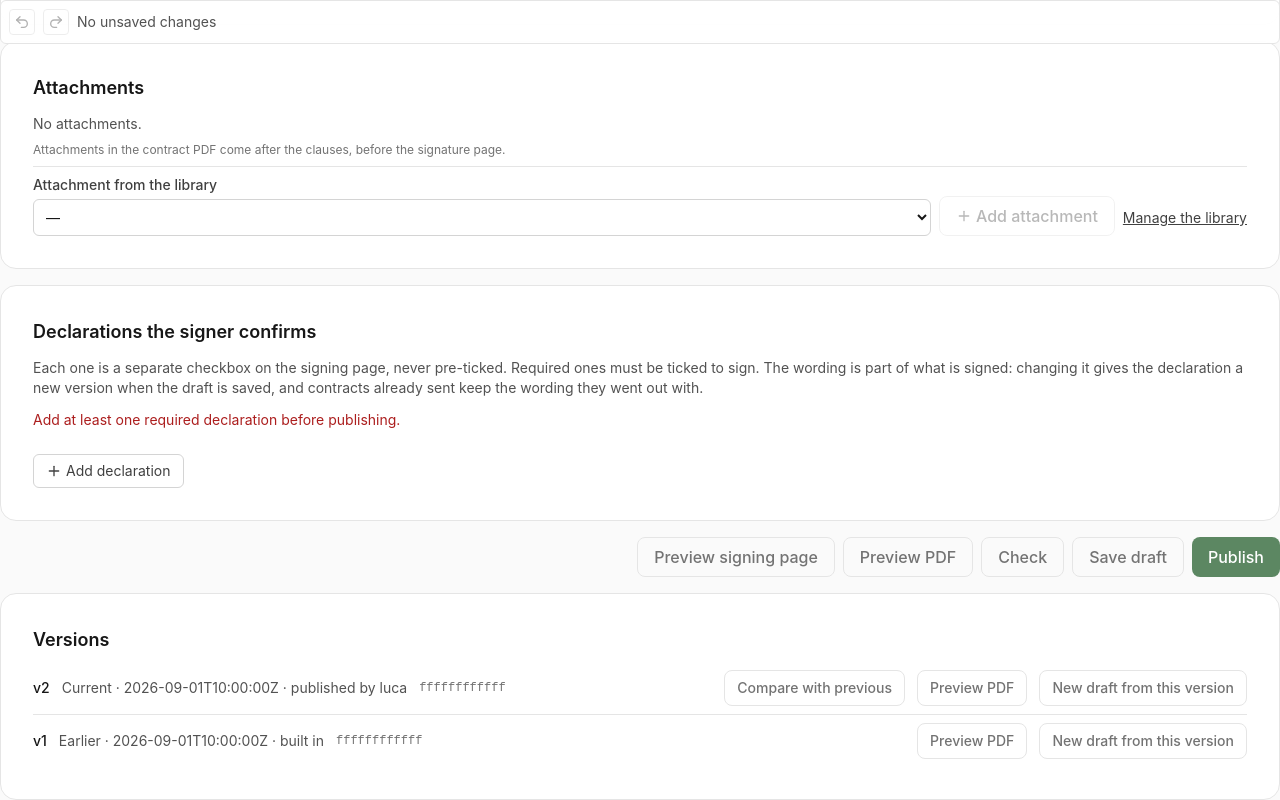
Scenario: the version history names the publisher and compares a version with the one before
(page scrolled)
Expected: the text "Current · 2026-09-01T10:00:00Z · published by luca" is shown, [62,678,407,698]
Expected: the text "Earlier · 2026-09-01T10:00:00Z · built in" is shown, [59,731,324,751]
Click the button "Compare with previous" at (815, 688), box [724,670,905,706]
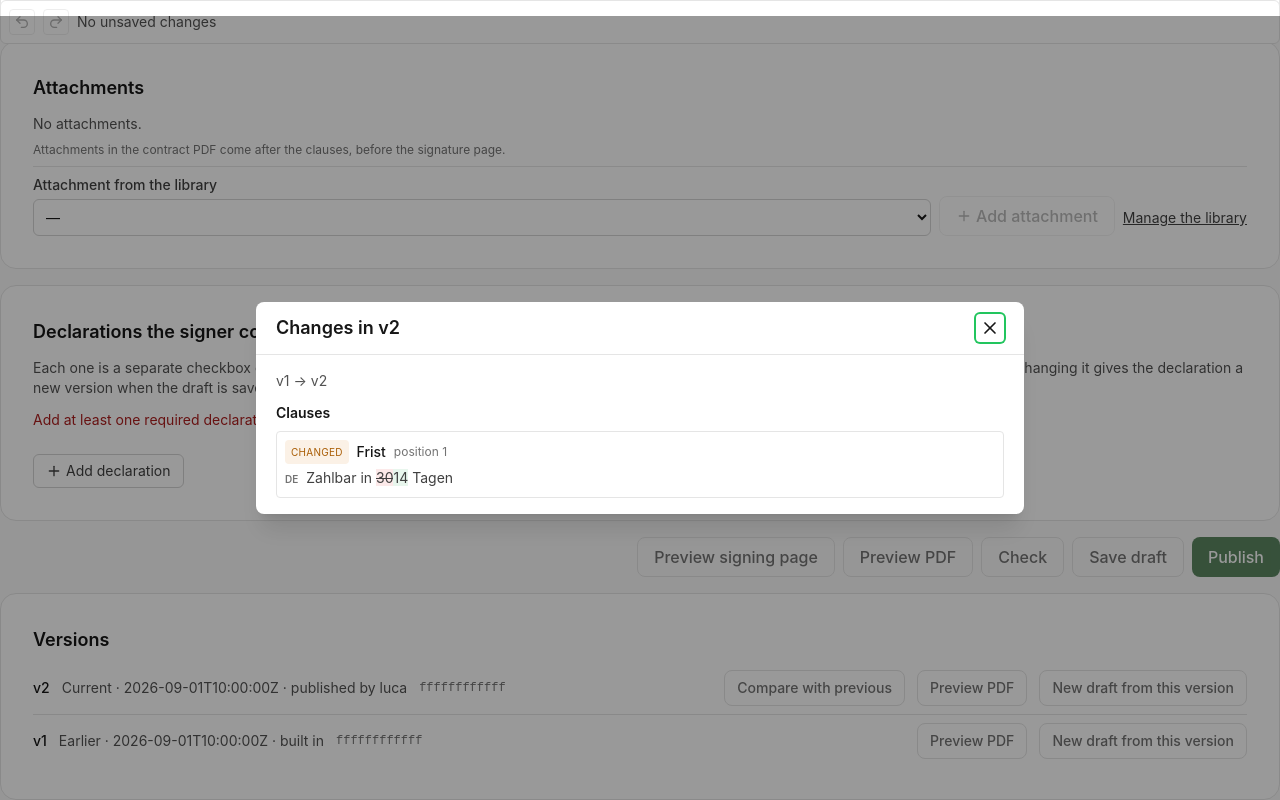
Expected: the dialog "Changes in v2" shows "Frist", [357,443,386,460]
Expected: the text "30" is shown, [376,469,394,486]
Expected: the text "14" is shown, [394,469,408,486]
